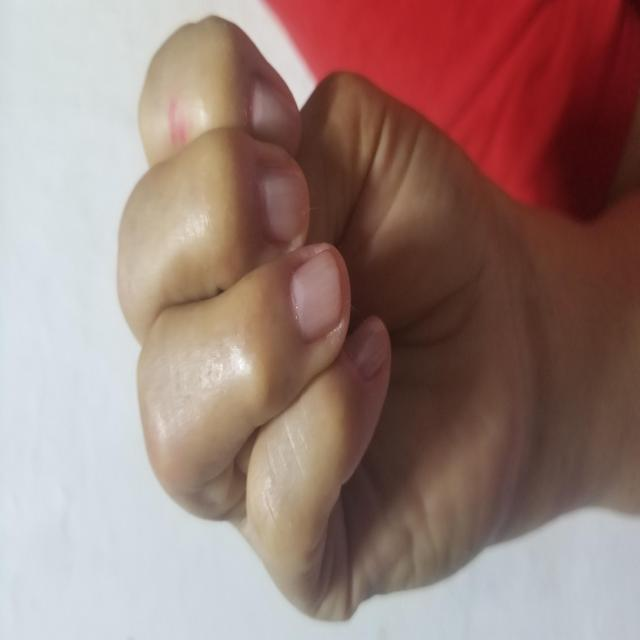M: (2, 14, 574, 630)
